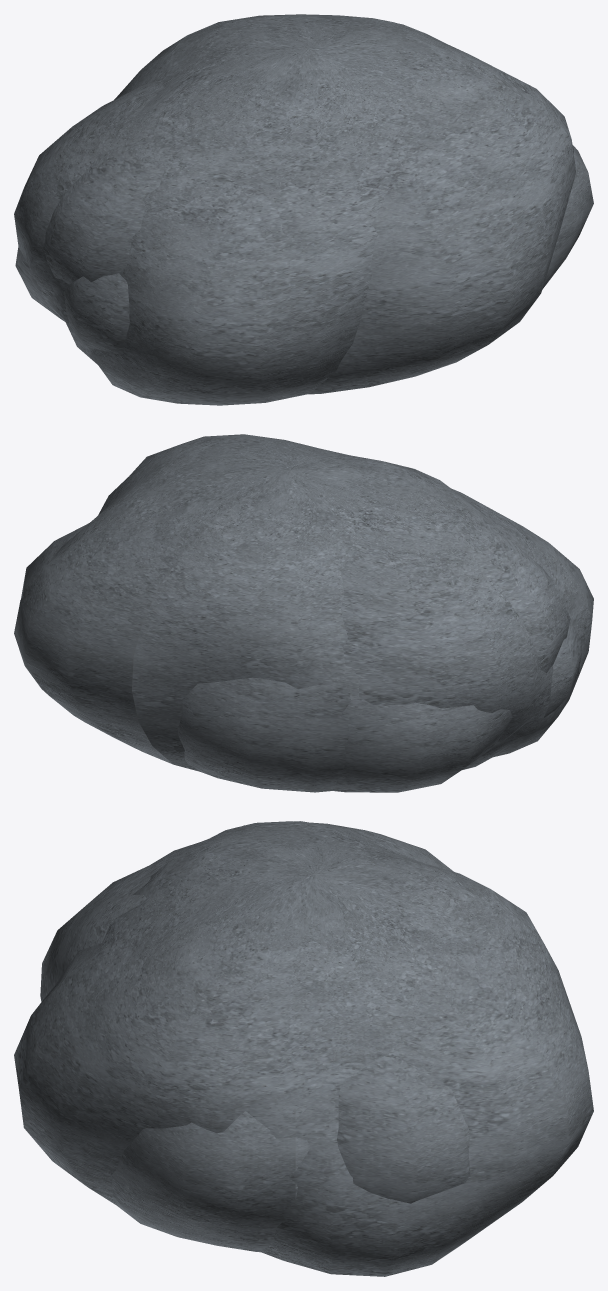
File: guti_pebble_variations.glb
3 renders of one model, top to bottom at view 1: azimuth 30°, elevation 25°; view 2: azimuth 150°, elevation 25°; view 3: azimuth 270°, elevation 25°, orthographic. The views are drawn at different scales.
Parts seen in each view (by area): view 1: dark_variation_3, dark_variation_2, dark_variation_1; view 2: dark_variation_3, dark_variation_2, dark_variation_1; view 3: dark_variation_3, dark_variation_2, dark_variation_1.
Boxes of the visible parts, <box> form: dark_variation_3: <box>15,14,575,394</box>; dark_variation_2: <box>14,80,387,405</box>; dark_variation_1: <box>64,144,593,354</box>; dark_variation_3: <box>14,434,570,792</box>; dark_variation_2: <box>21,488,593,792</box>; dark_variation_1: <box>462,615,583,769</box>; dark_variation_3: <box>14,821,593,1276</box>; dark_variation_2: <box>40,821,470,1203</box>; dark_variation_1: <box>111,1105,310,1252</box>.
Size of the model in its own units: 0.025 by 0.0122 by 0.022.
2 materials, 2 textured.
